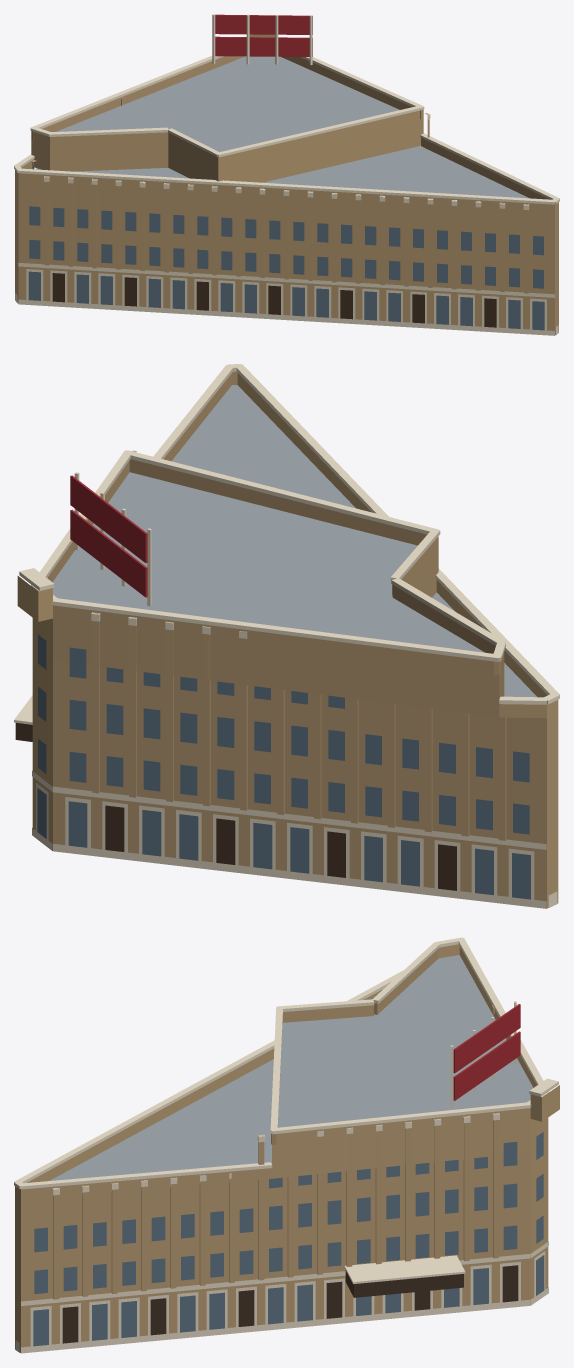
The model's file is indy-madam-walker-legacy-center.glb.
3 views of the same model, one above another, from view 1: azimuth 30°, elevation 25°; view 2: azimuth 150°, elevation 25°; view 3: azimuth 270°, elevation 25° (orthographic). The views are drawn at different scales.
Visible parts, largest first — view 1: Madam Walker Legacy Center; view 2: Madam Walker Legacy Center; view 3: Madam Walker Legacy Center.
Boxes of the visible parts, <box> form: Madam Walker Legacy Center: <box>14,14,559,335</box>; Madam Walker Legacy Center: <box>14,364,559,908</box>; Madam Walker Legacy Center: <box>14,937,559,1353</box>.
Bounding box in the file's own units: 48.48 × 25.6 × 48.46.
